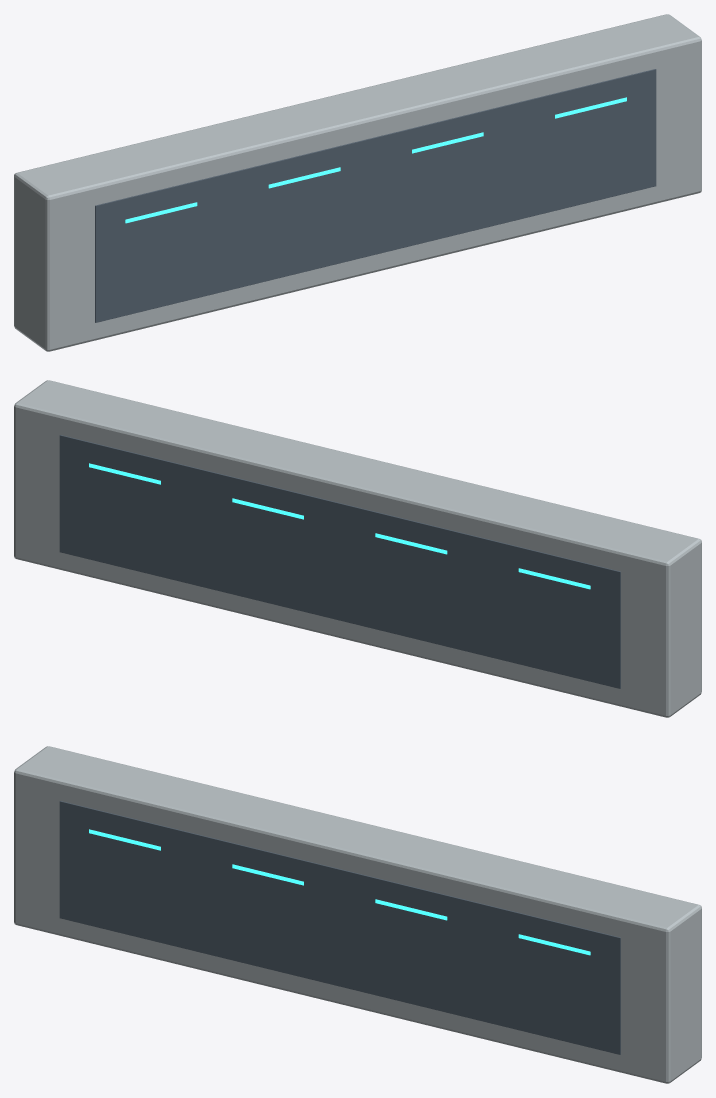
File: training-rear-wall.glb
3 renders of one model, top to bottom at view 1: azimuth 30°, elevation 25°; view 2: azimuth 150°, elevation 25°; view 3: azimuth 330°, elevation 25°, orthographic.
Parts seen in each view (by area): view 1: Visual_Merged_ZA_TrainingRearWall_Root_Graphite_Paint, Visual_TrainingRearWall_Shell, Visual_Merged_ZA_TrainingRearWall_Root_Zero_Cyan_Emissive; view 2: Visual_Merged_ZA_TrainingRearWall_Root_Graphite_Paint, Visual_TrainingRearWall_Shell, Visual_Merged_ZA_TrainingRearWall_Root_Zero_Cyan_Emissive; view 3: Visual_Merged_ZA_TrainingRearWall_Root_Graphite_Paint, Visual_TrainingRearWall_Shell, Visual_Merged_ZA_TrainingRearWall_Root_Zero_Cyan_Emissive.
Part boxes in pixels (bbox=[...]): Visual_Merged_ZA_TrainingRearWall_Root_Graphite_Paint: bbox=[95, 69, 656, 322]; Visual_TrainingRearWall_Shell: bbox=[14, 14, 701, 351]; Visual_Merged_ZA_TrainingRearWall_Root_Zero_Cyan_Emissive: bbox=[125, 97, 626, 223]; Visual_Merged_ZA_TrainingRearWall_Root_Graphite_Paint: bbox=[59, 435, 620, 688]; Visual_TrainingRearWall_Shell: bbox=[14, 380, 701, 717]; Visual_Merged_ZA_TrainingRearWall_Root_Zero_Cyan_Emissive: bbox=[89, 463, 590, 589]; Visual_Merged_ZA_TrainingRearWall_Root_Graphite_Paint: bbox=[59, 801, 620, 1054]; Visual_TrainingRearWall_Shell: bbox=[14, 746, 701, 1083]; Visual_Merged_ZA_TrainingRearWall_Root_Zero_Cyan_Emissive: bbox=[89, 829, 590, 955].
Size of the model in its own units: 22 by 5 by 2.13.
